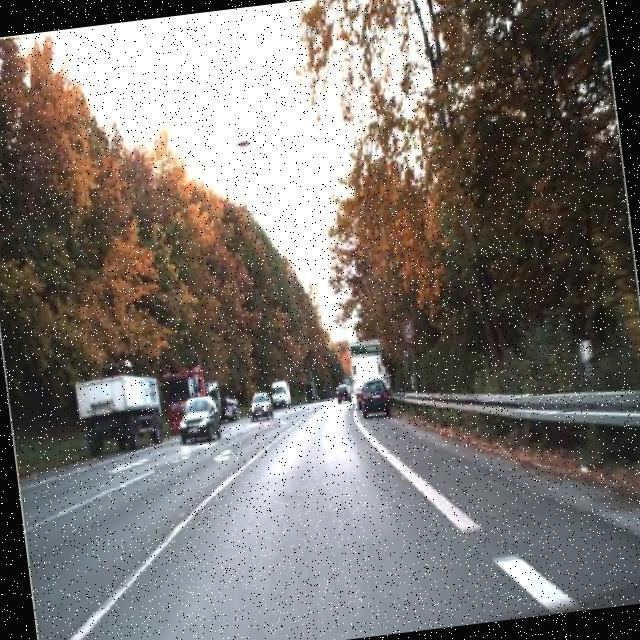Ograniczenie predkosci do 50: (399, 319, 416, 345)
